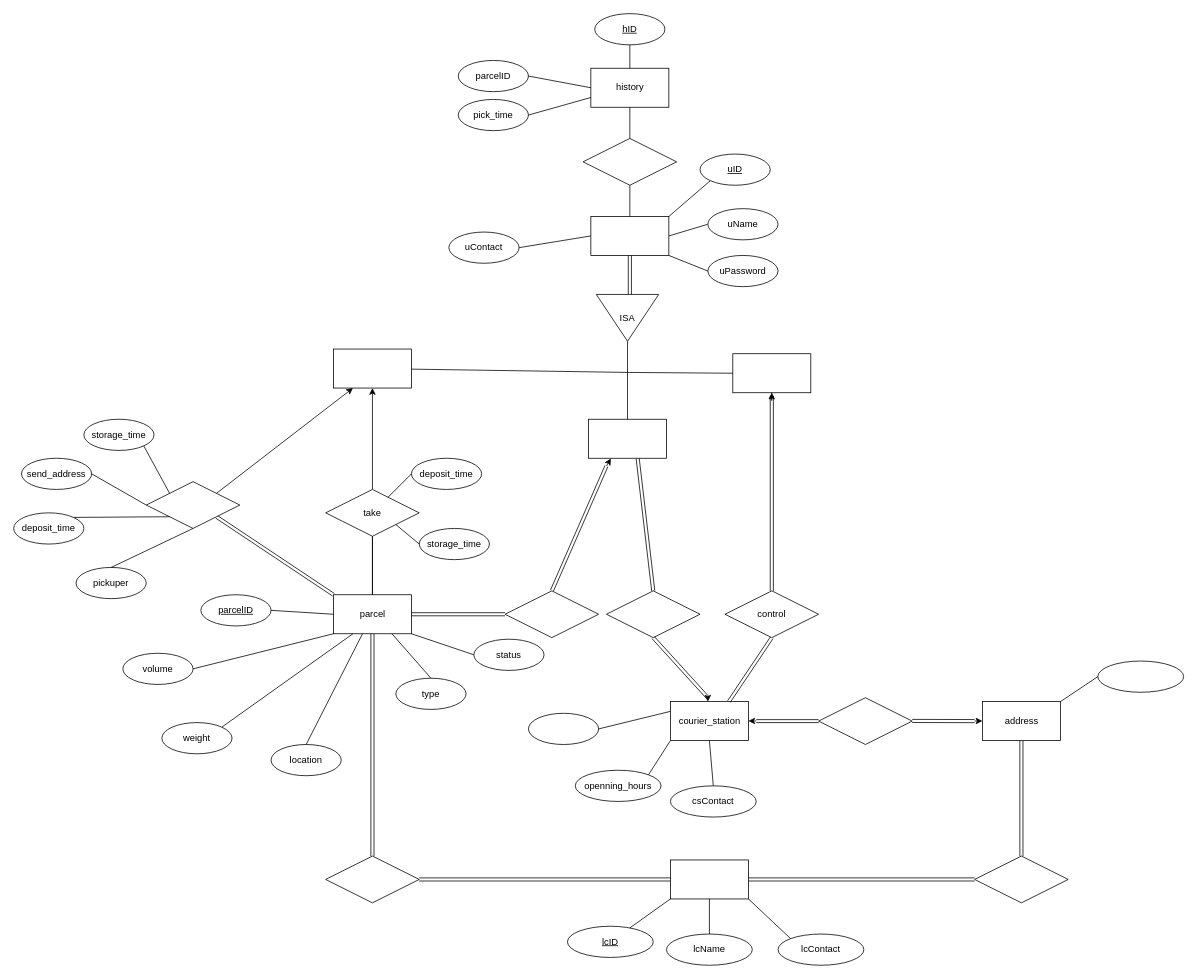
The diagram is 1197 pixels wide and 979 high, and some of its shapes have lost their labels. The shapes that lost their labels are listed below. From the top down, each one's box as (x1, y1, x2, y2) in pixels, then its label:
(582, 138, 677, 185): search
(590, 216, 669, 255): user
(333, 348, 411, 388): customer
(732, 353, 811, 393): administrator
(588, 418, 667, 458): delivery_manager
(145, 481, 240, 528): send
(504, 590, 599, 638): manage
(606, 590, 700, 638): belong
(1097, 660, 1184, 692): csAddress
(528, 713, 599, 745): csID
(818, 697, 912, 745): locate
(325, 855, 419, 903): carry
(670, 859, 748, 899): logistics_company
(974, 855, 1068, 903): transfer
